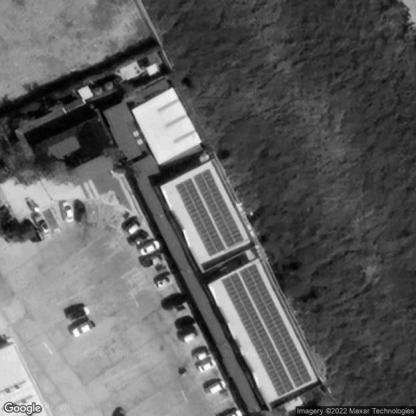solar-pv-panel: (221, 273, 295, 397), (238, 265, 310, 391), (174, 179, 227, 257), (192, 170, 245, 247)
